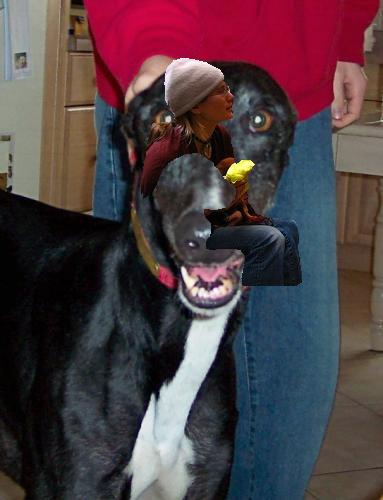tampered: (142, 59, 302, 286)
